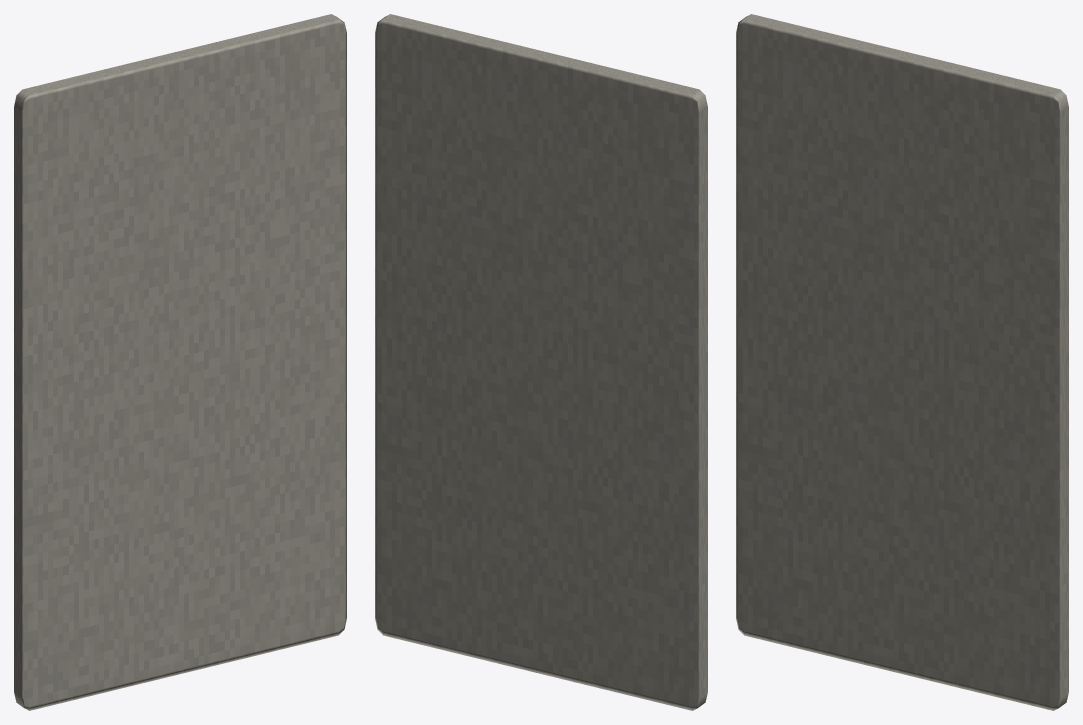
The model's file is partition.glb.
The picture shows the model from 3 angles, left to right: view 1: azimuth 30°, elevation 25°; view 2: azimuth 150°, elevation 25°; view 3: azimuth 330°, elevation 25°; orthographic projection.
Parts seen in each view (by area): view 1: panel; view 2: panel; view 3: panel.
Boxes of the visible parts, x1,y1,x2,y2 form: panel: (14, 14, 346, 710); panel: (375, 14, 707, 710); panel: (736, 14, 1068, 710).
Size of the model in its own units: 0.99 by 1.79 by 0.04.
Materials: 1 (1 with a texture image).
